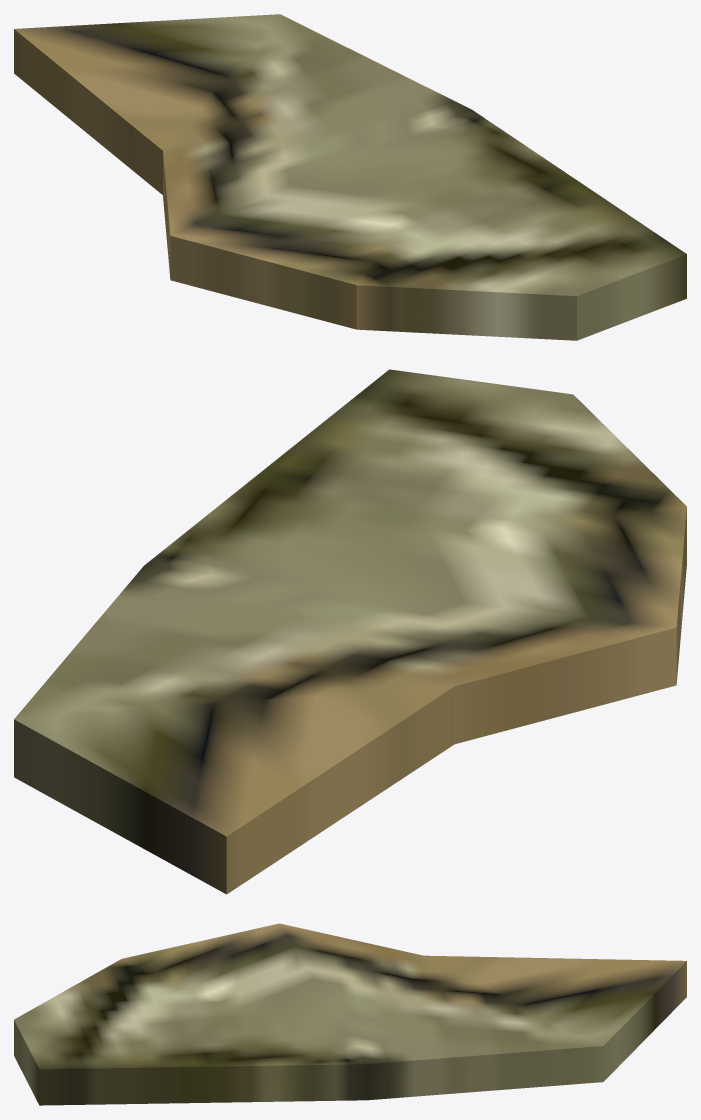
File: GLA - Aviation - Cargo Plane - Damage State 4 - UVCargoPln_d4.glb
3 renders of one model, top to bottom at view 1: azimuth 30°, elevation 25°; view 2: azimuth 150°, elevation 25°; view 3: azimuth 270°, elevation 25°, orthographic. The views are drawn at different scales.
Visible parts, largest first — view 1: UVCARGOPLN_D4; view 2: UVCARGOPLN_D4; view 3: UVCARGOPLN_D4.
Part boxes in pixels (x1,y1,x2,y2): UVCARGOPLN_D4: [14, 14, 686, 340]; UVCARGOPLN_D4: [14, 369, 686, 894]; UVCARGOPLN_D4: [14, 923, 686, 1105].
Size of the model in its own units: 6.5 by 0.75 by 12.66.
1 material, 1 textured.
